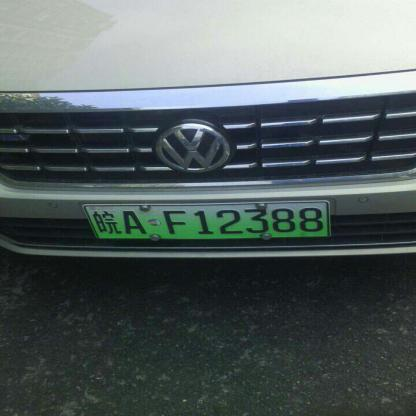lp: (83, 201, 331, 238)
